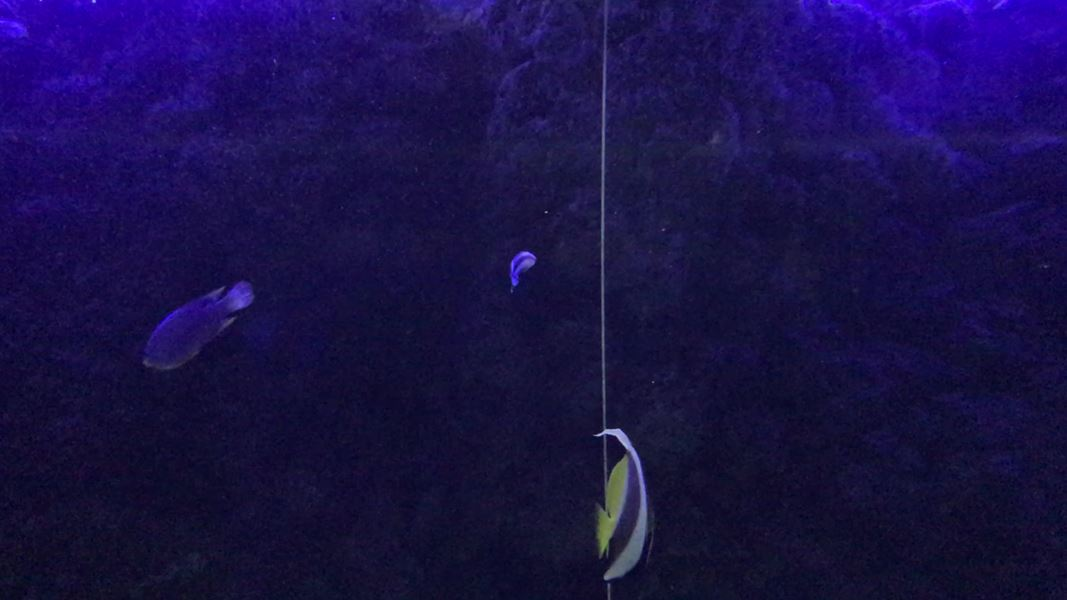Bluesteak cleaner wrasse: (499, 241, 543, 299)
